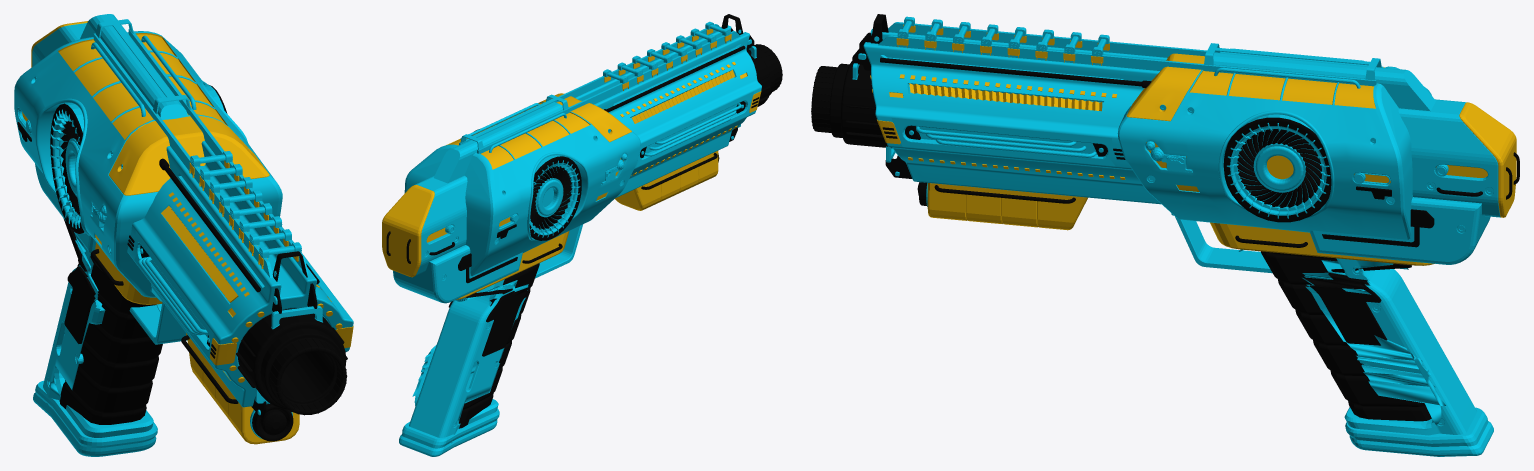
Rendered from LittleWar.fbx.
3 views of the same model, side by side, from view 1: azimuth 30°, elevation 25°; view 2: azimuth 150°, elevation 25°; view 3: azimuth 270°, elevation 25° (orthographic). The views are drawn at different scales.
Visible parts, largest first — view 1: Gun; view 2: Gun; view 3: Gun.
Boxes of the visible parts, x1=… form: Gun: x1=14, y1=14, x2=353, y2=456; Gun: x1=382, y1=14, x2=782, y2=456; Gun: x1=811, y1=14, x2=1519, y2=456.
Size of the model in its own units: 448 by 732 by 1258.
